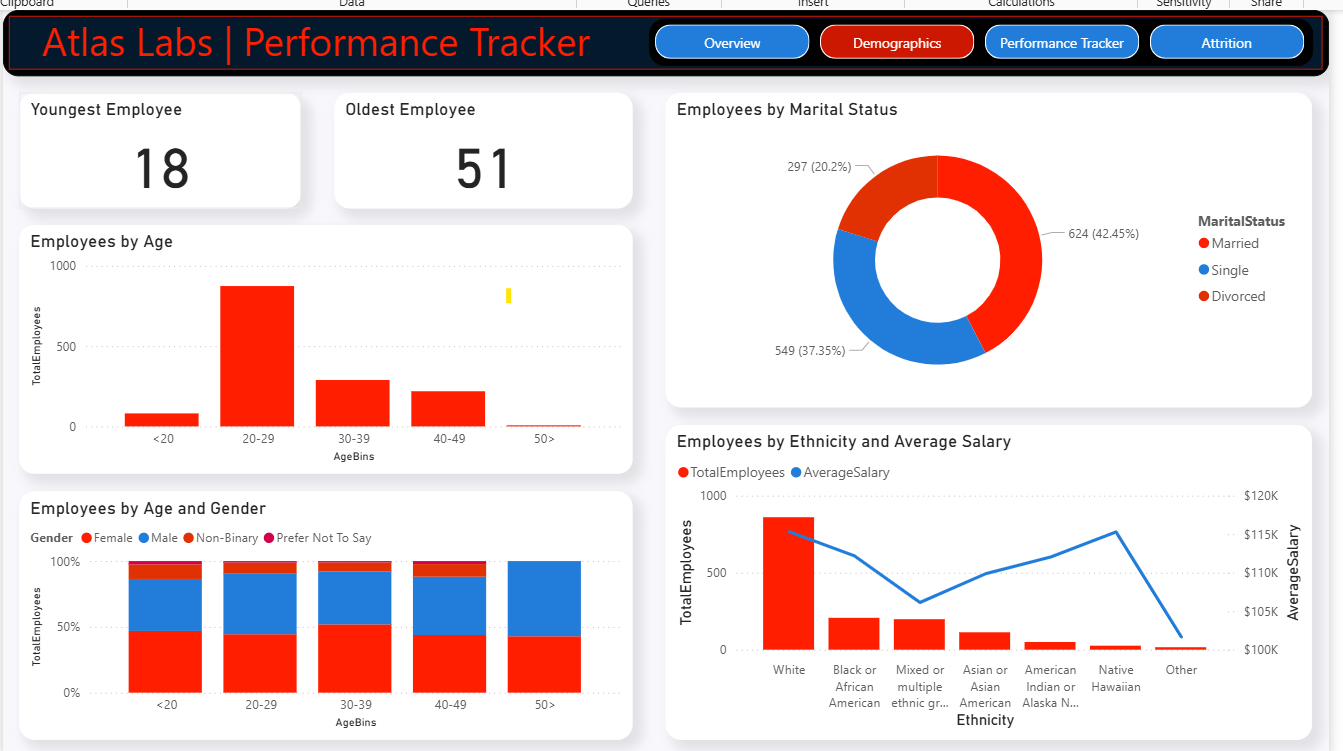

The page's visual inventory and layout, read from the dashboard file:
{"tool":"powerbi","page":{"name":"Demographics","canvas":[1280,720],"ordinal":1},"visuals":[{"type":"card","title":"Youngest Employee","fields":{"Values":["Min(DimEmployee.Age)"]},"box":[16,80,272,112],"z":0},{"type":"card","title":"Oldest Employee","fields":{"Values":["Max(DimEmployee.Age)"]},"box":[320,80,288,112],"z":1000},{"type":"columnChart","title":"Employees by Age","fields":{"Category":["DimEmployee.AgeBins"],"Y":["_Measures.TotalEmployees"]},"box":[16,208,592,240],"z":2000},{"type":"hundredPercentStackedColumnChart","title":"Employees by Age and Gender","fields":{"Category":["DimEmployee.AgeBins"],"Series":["DimEmployee.Gender"],"Y":["_Measures.TotalEmployees"]},"box":[16,464,592,240],"z":3000},{"type":"donutChart","title":"Employees by Marital Status","fields":{"Category":["DimEmployee.MaritalStatus"],"Y":["_Measures.TotalEmployees"]},"box":[640,80,624,304],"z":4000},{"type":"lineStackedColumnComboChart","title":"Employees by Ethnicity and Average Salary","fields":{"Category":["DimEmployee.Ethnicity"],"Y":["_Measures.TotalEmployees"],"Y2":["_Measures.AverageSalary"]},"box":[640,400,624,304],"z":5000},{"type":"shape","box":[0,0,1280,64],"z":6000},{"type":"textbox","box":[32,0,624,64],"z":7000},{"type":"pageNavigator","box":[623.7,8.4,640.6,45.8],"z":8000}]}

Visuals, with their boxes on the page's 1280x720 design canvas (x1, y1, x2, y2). These are canvas units, not pixel positions in the 1343x751 screenshot, which may show the page scaled, cropped or inside an application window:
"Youngest Employee" card: crop(16, 80, 288, 192)
"Oldest Employee" card: crop(320, 80, 608, 192)
"Employees by Age" columnChart: crop(16, 208, 608, 448)
"Employees by Age and Gender" hundredPercentStackedColumnChart: crop(16, 464, 608, 704)
"Employees by Marital Status" donutChart: crop(640, 80, 1264, 384)
"Employees by Ethnicity and Average Salary" lineStackedColumnComboChart: crop(640, 400, 1264, 704)
shape: crop(0, 0, 1280, 64)
textbox: crop(32, 0, 656, 64)
pageNavigator: crop(624, 8, 1264, 54)
